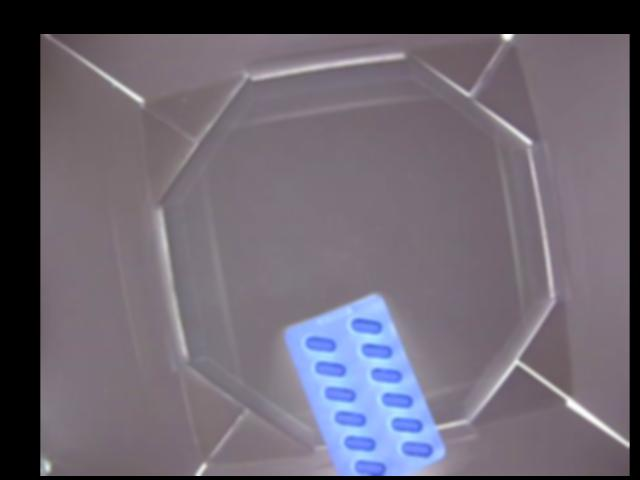Medicine: (282, 296, 445, 475)
